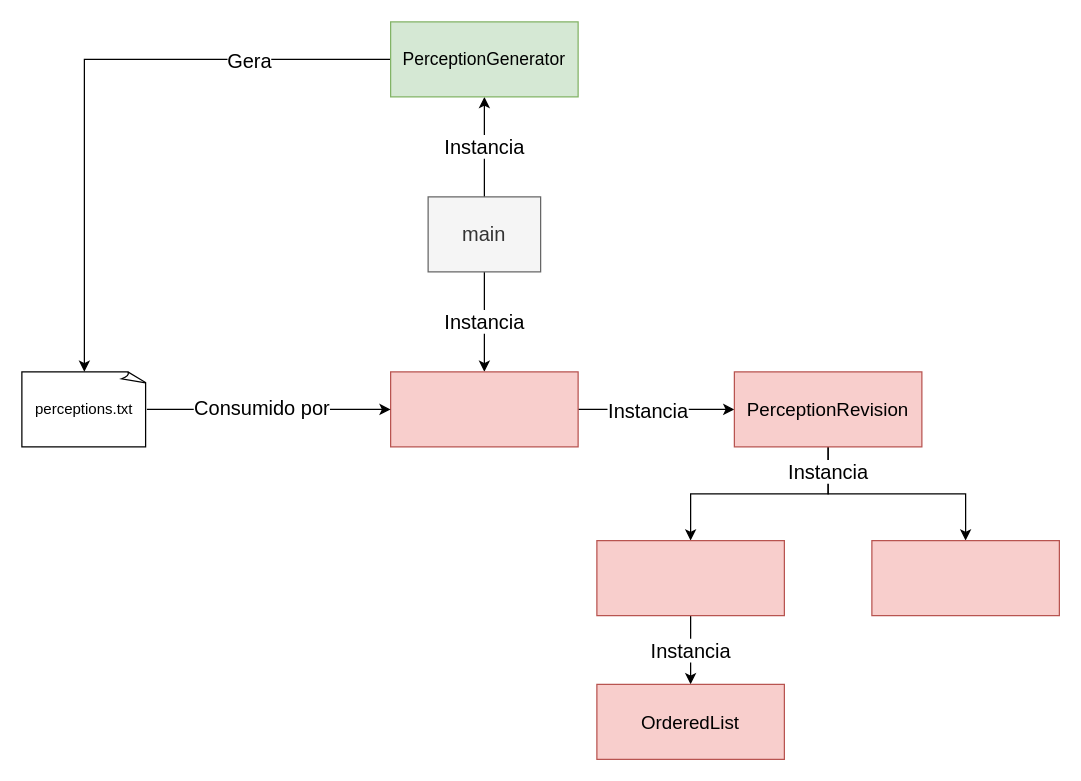
Image size: 1081x781. Some labels were removed from this diagram. The shapes that lost their labels are listed below. From the top down, each one's box as (x1, y1, x2, y2) in pixels, then its label:
(389, 371, 578, 447): Simulation
(596, 539, 784, 616): AvaliationBlock
(871, 539, 1059, 616): Autoplanning
